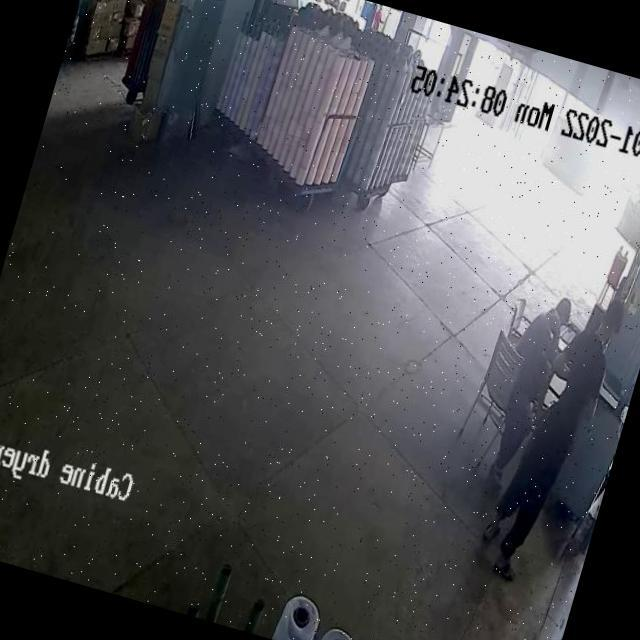person: (474, 280, 626, 585), (484, 286, 568, 439)
